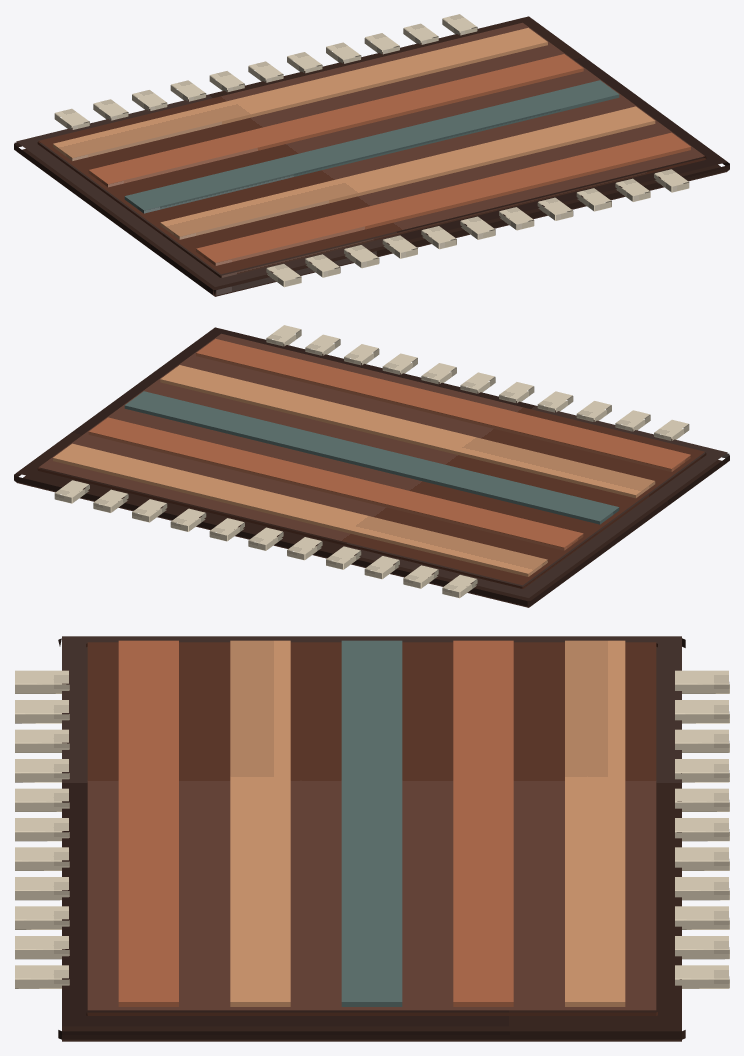
The model's file is apartment_carpet_rust.glb.
3 views of the same model, one above another, from view 1: azimuth 30°, elevation 25°; view 2: azimuth 150°, elevation 25°; view 3: azimuth 270°, elevation 25° (orthographic). The views are drawn at different scales.
Parts seen in each view (by area): view 1: WovenField, TextileBase, WovenBand_1, WovenBand_2, WovenBand_3, WovenBand_4, WovenBand_0, FringeF_2, FringeF_-1, FringeF_-3, FringeF_1, FringeF_3 (+17 smaller); view 2: WovenField, TextileBase, WovenBand_3, WovenBand_2, WovenBand_1, WovenBand_0, WovenBand_4, FringeB_2, FringeB_-1, FringeB_-3, FringeB_1, FringeB_3 (+17 smaller); view 3: WovenField, TextileBase, WovenBand_2, WovenBand_1, WovenBand_3, WovenBand_0, WovenBand_4, FringeB_5, FringeB_-4, FringeB_0, FringeB_1, FringeB_2 (+17 smaller).
Part boxes in pixels (bbox=[...]): WovenField: bbox=[37, 22, 706, 277]; TextileBase: bbox=[14, 16, 729, 296]; WovenBand_1: bbox=[160, 106, 655, 239]; WovenBand_2: bbox=[124, 80, 619, 213]; WovenBand_3: bbox=[88, 54, 583, 187]; WovenBand_4: bbox=[53, 27, 547, 160]; WovenBand_0: bbox=[196, 132, 690, 265]; FringeF_2: bbox=[537, 197, 573, 220]; FringeF_-1: bbox=[421, 226, 456, 249]; FringeF_-3: bbox=[344, 245, 379, 268]; FringeF_1: bbox=[499, 207, 534, 230]; FringeF_3: bbox=[576, 188, 611, 211]; WovenField: bbox=[37, 333, 706, 588]; TextileBase: bbox=[14, 327, 729, 607]; WovenBand_3: bbox=[88, 417, 583, 550]; WovenBand_2: bbox=[124, 391, 619, 524]; WovenBand_1: bbox=[160, 365, 655, 498]; WovenBand_0: bbox=[196, 338, 690, 471]; WovenBand_4: bbox=[53, 443, 547, 576]; FringeB_2: bbox=[170, 508, 206, 531]; FringeB_-1: bbox=[287, 537, 322, 560]; FringeB_-3: bbox=[364, 556, 399, 579]; FringeB_1: bbox=[209, 518, 244, 541]; FringeB_3: bbox=[132, 499, 167, 522]; WovenField: bbox=[86, 642, 657, 1015]; TextileBase: bbox=[58, 636, 685, 1041]; WovenBand_2: bbox=[341, 640, 402, 1006]; WovenBand_1: bbox=[230, 640, 290, 1006]; WovenBand_3: bbox=[453, 640, 513, 1006]; WovenBand_0: bbox=[118, 640, 178, 1006]; WovenBand_4: bbox=[565, 640, 625, 1006]; FringeB_5: bbox=[675, 965, 729, 988]; FringeB_-4: bbox=[675, 700, 729, 723]; FringeB_0: bbox=[675, 818, 729, 841]; FringeB_1: bbox=[675, 847, 729, 870]; FringeB_2: bbox=[675, 877, 729, 900].
Bounding box in the file's own units: 2 × 0.06 × 1.54.
Materials: 1 (1 with a texture image).
